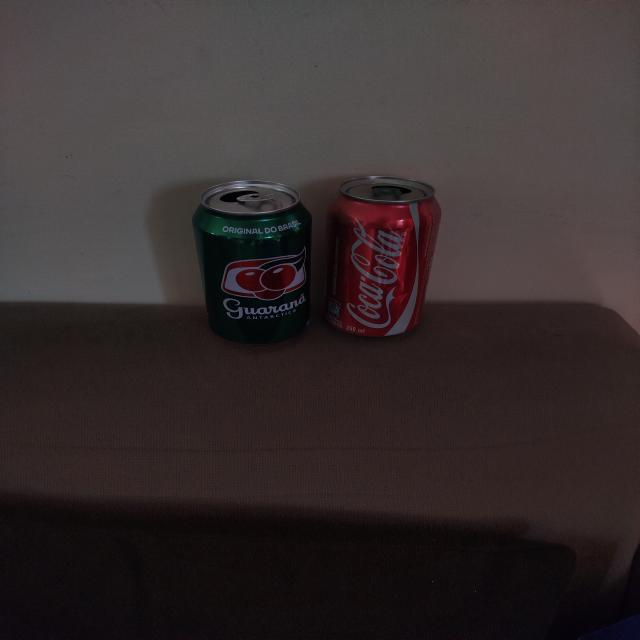Coca Cola: (325, 175, 442, 338)
Guarana: (193, 180, 314, 344)
